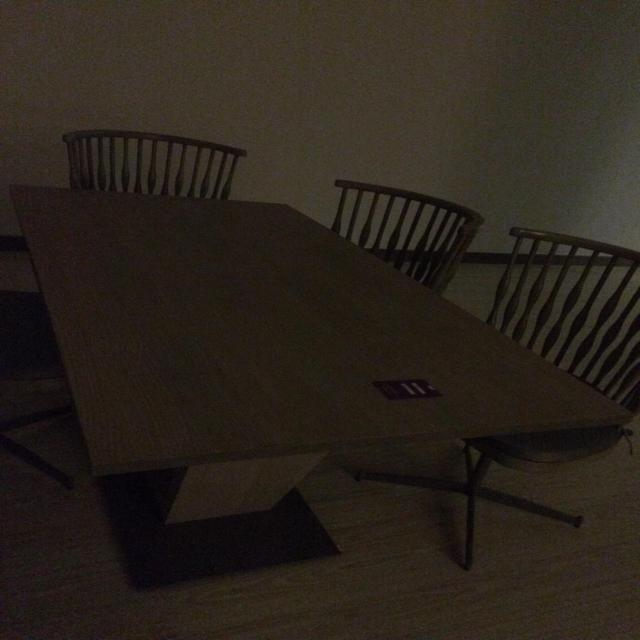Table: (19, 171, 574, 640)
chair: (495, 183, 640, 463), (309, 132, 505, 315), (33, 108, 257, 237)
